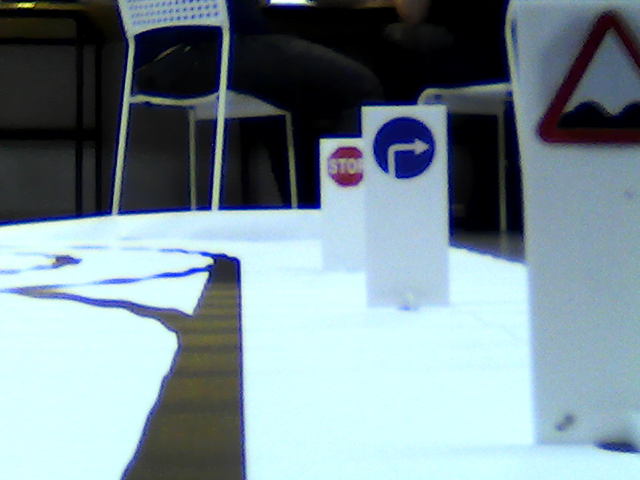Nerov: (525, 3, 640, 152)
Right: (374, 116, 435, 181)
Stop: (326, 145, 368, 190)
